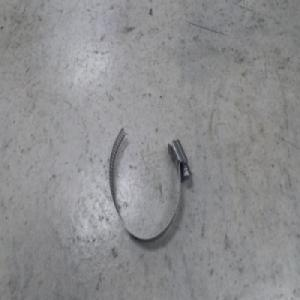AdjustableClamp: (108, 126, 190, 241)
